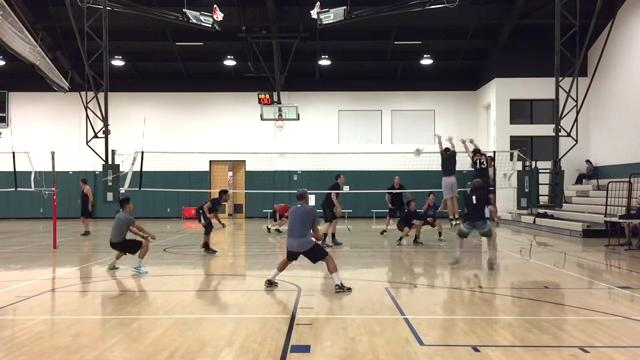attacco: (481, 146, 502, 221)
muro: (431, 129, 465, 237), (460, 132, 496, 219)
